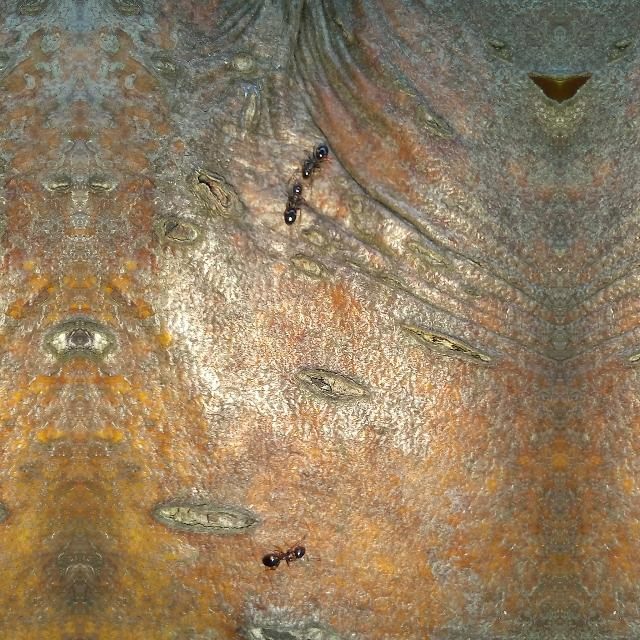Dolichoderus: (258, 534, 312, 576), (296, 126, 334, 182), (280, 179, 306, 229)
